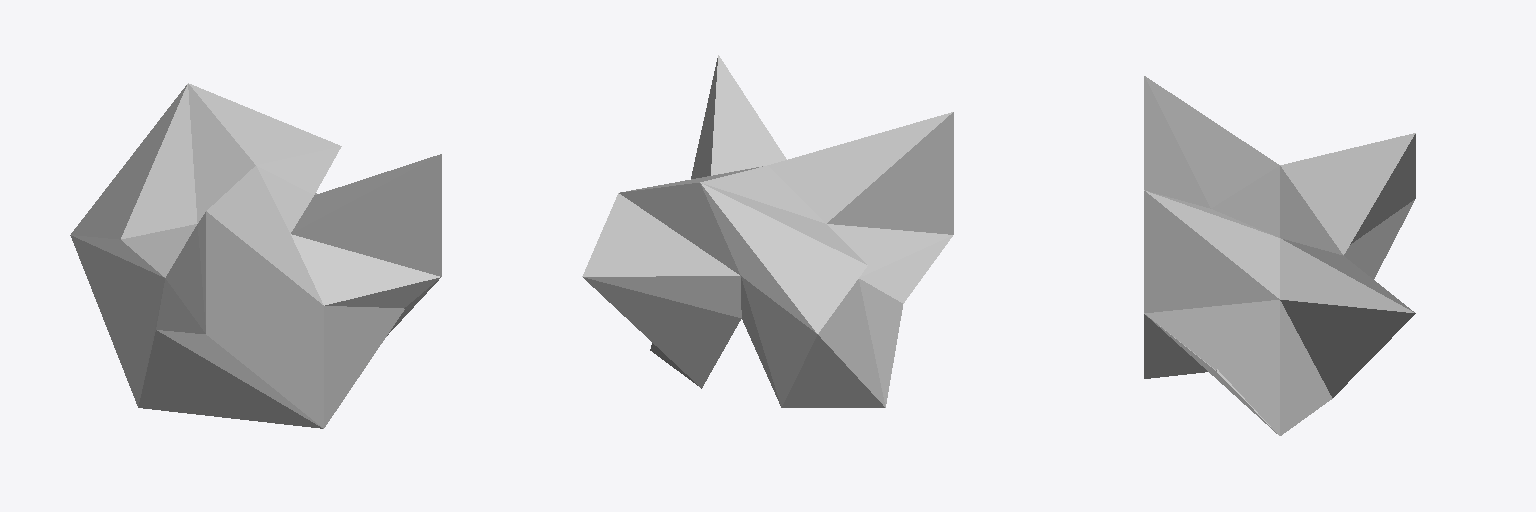
File: alat.obj
3 views of the same model, side by side, from view 1: azimuth 30°, elevation 25°; view 2: azimuth 150°, elevation 25°; view 3: azimuth 270°, elevation 25° (orthographic).
Parts seen in each view (by area): view 1: Cube; view 2: Cube; view 3: Cube.
Boxes of the visible parts, <box> form: Cube: <box>70,83,441,428</box>; Cube: <box>582,55,953,407</box>; Cube: <box>1144,76,1415,435</box>.
Size of the model in its own units: 2 by 2 by 2.